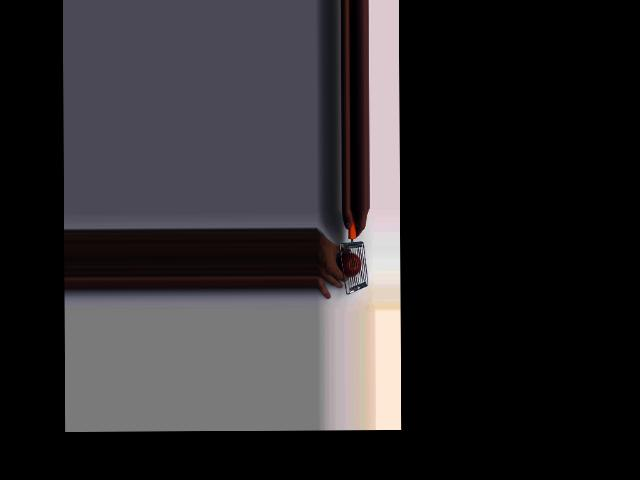tomato: (338, 252, 361, 276)
